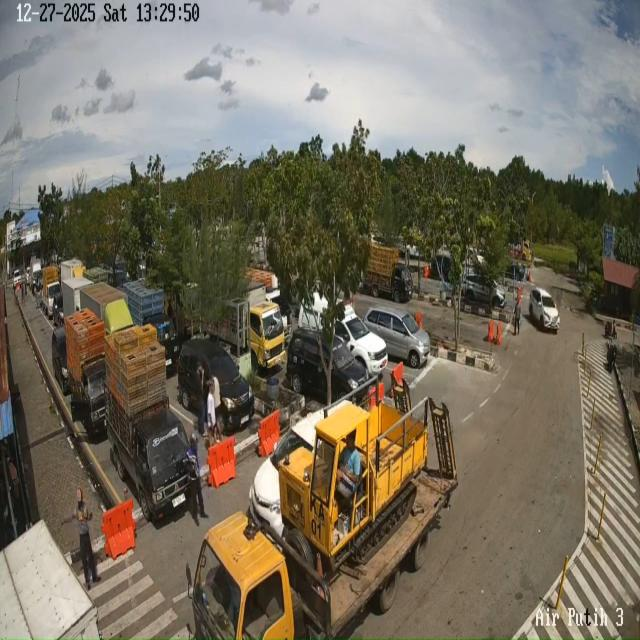Golongan IVA: (249, 400, 349, 535), (298, 293, 388, 377), (177, 338, 255, 432), (286, 327, 369, 401), (364, 306, 431, 368), (462, 273, 506, 308), (528, 288, 560, 332), (51, 326, 70, 394)
Golongan IVB: (107, 394, 189, 522), (72, 355, 113, 444), (363, 243, 413, 303)
Golongan VB: (187, 385, 457, 640), (203, 282, 286, 371)
